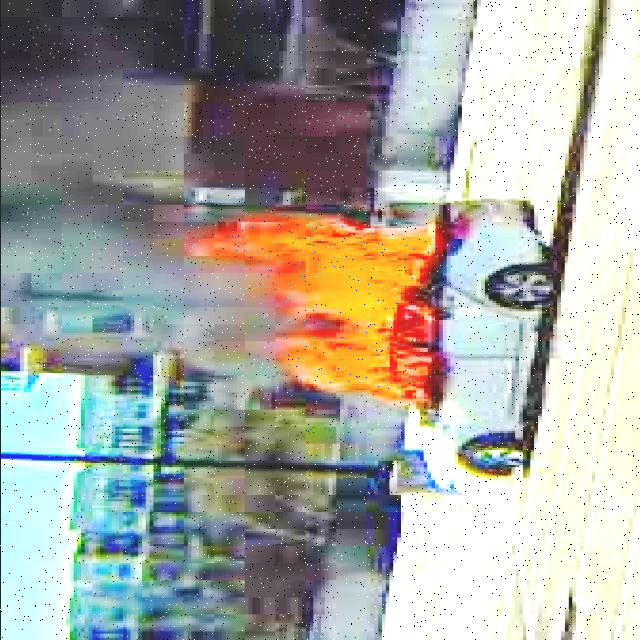api: (196, 206, 455, 428)
